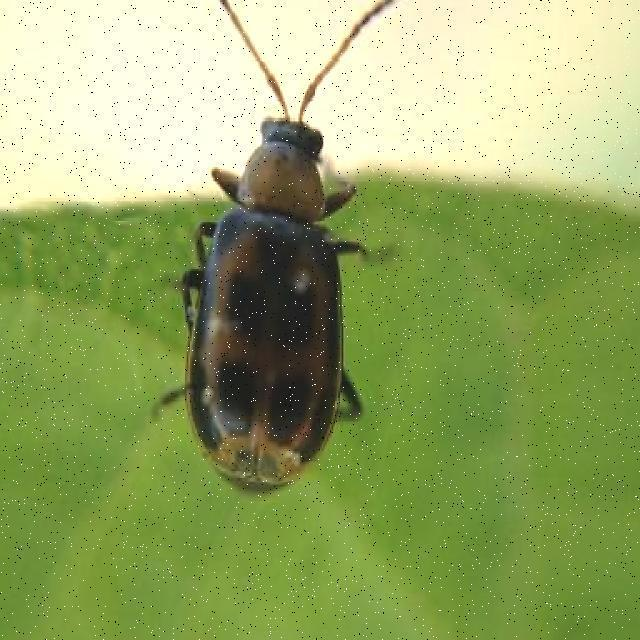gusano_verde: (152, 0, 406, 496)
